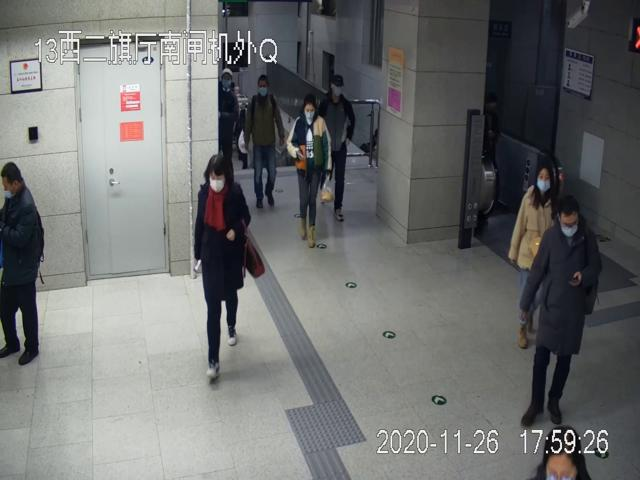person: (521, 195, 601, 427), (194, 153, 265, 375), (507, 162, 560, 350), (0, 162, 45, 366), (287, 95, 332, 248), (318, 76, 355, 222), (244, 75, 283, 207)
